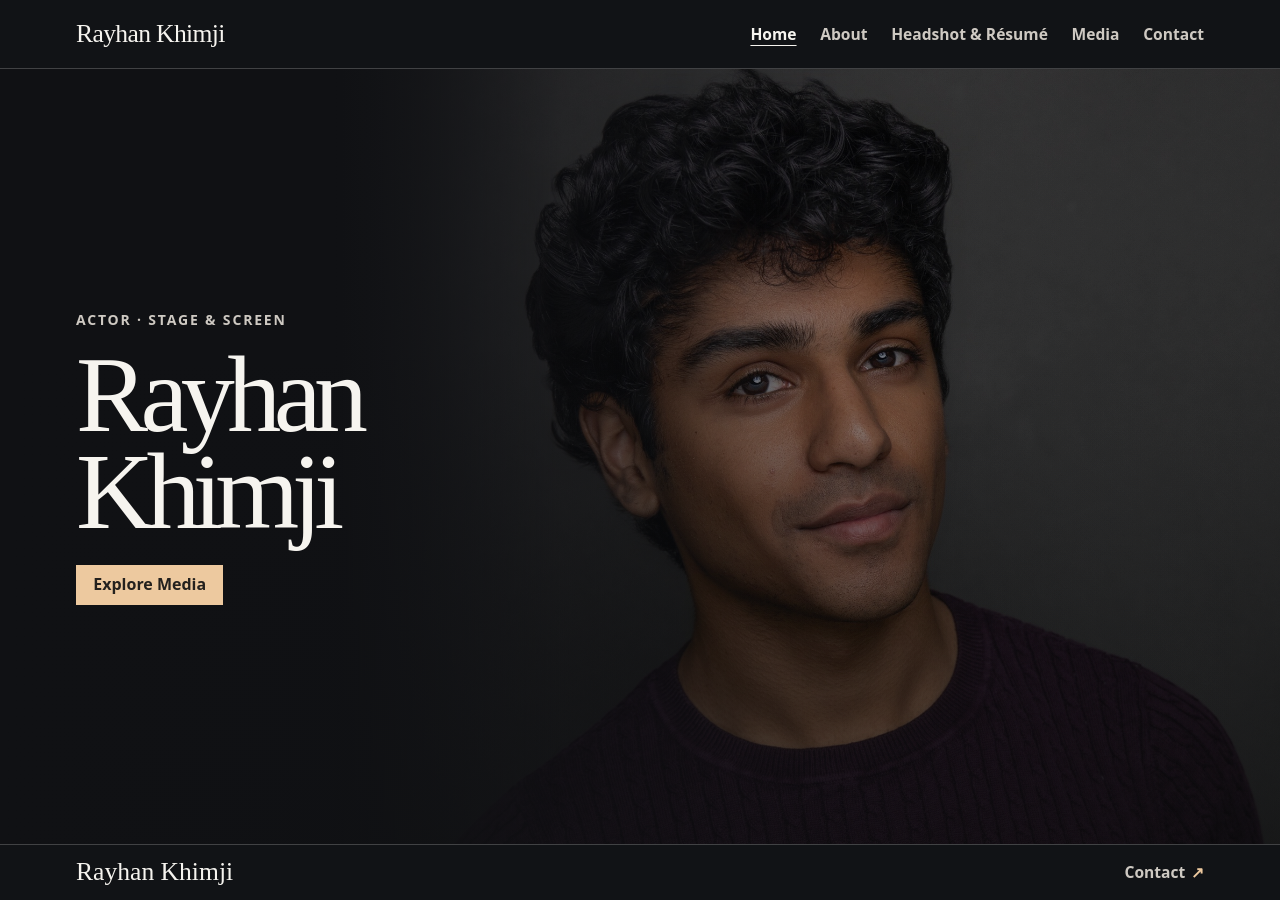
Test: portfolio › links to the Media page and displays the pending reel status
The image size is (1280, 900).
Click the link "Explore Media" at coordinates (150, 585), box left=76, top=565, right=223, bottom=605
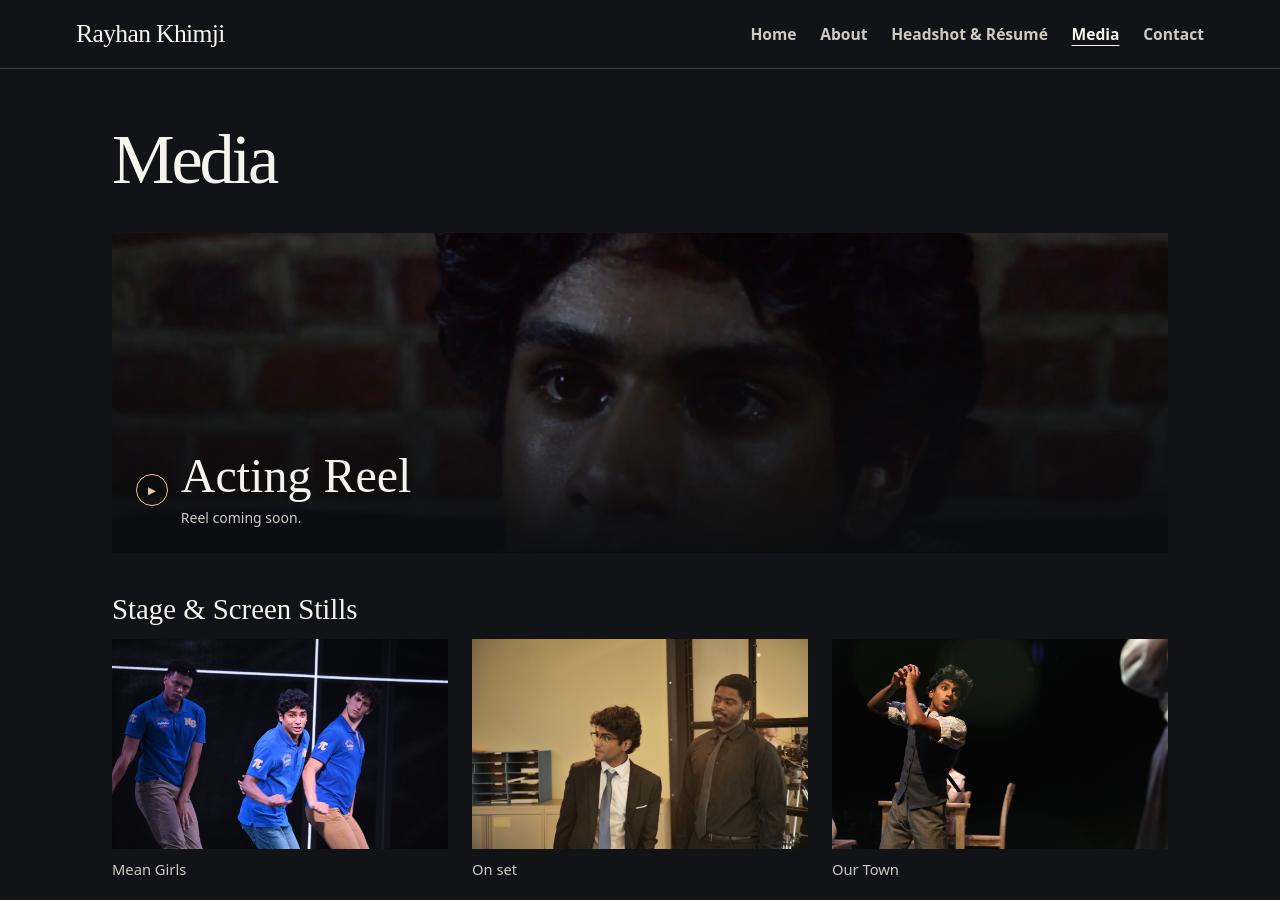
Now the heading "Acting Reel" is shown, box left=181, top=451, right=411, bottom=501
Now the text "Reel coming soon." is shown, box left=181, top=508, right=301, bottom=527
